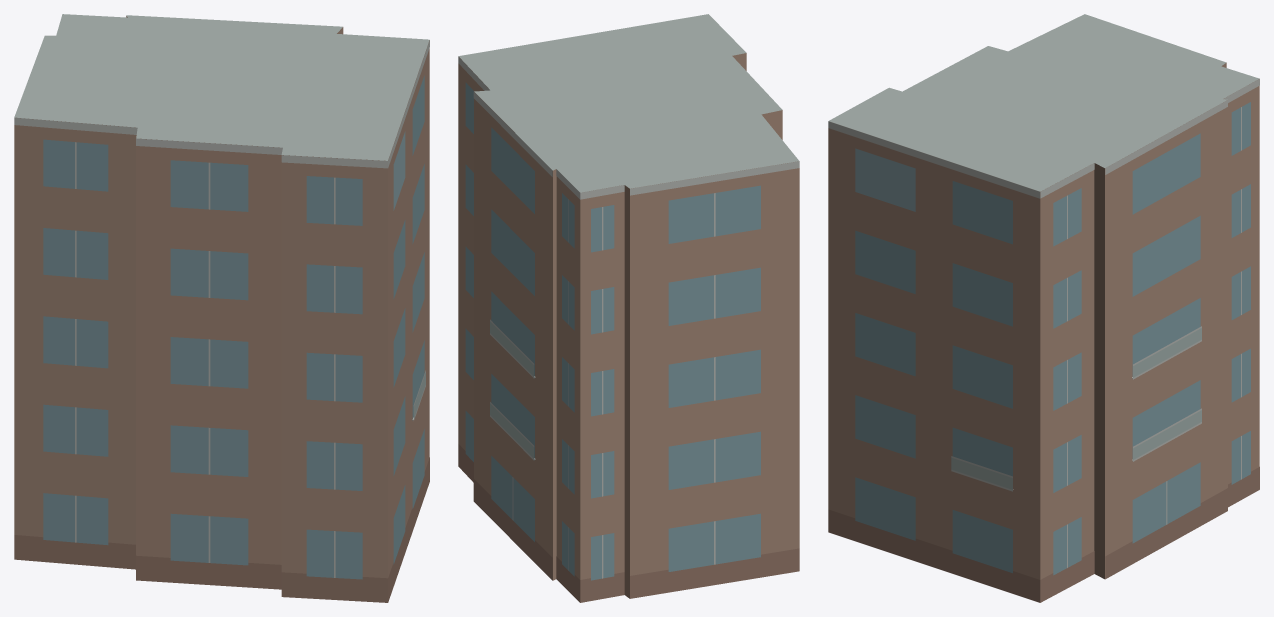
The model's file is survey-upis-32689103.glb.
3 views of the same model, side by side, from view 1: azimuth 30°, elevation 25°; view 2: azimuth 150°, elevation 25°; view 3: azimuth 270°, elevation 25° (orthographic). The views are drawn at different scales.
Parts seen in each view (by area): view 1: survey-upis-32689103.tmp; view 2: survey-upis-32689103.tmp; view 3: survey-upis-32689103.tmp.
Part boxes in pixels (box(x1,y1,x2,y2)): survey-upis-32689103.tmp: box(14, 14, 429, 602); survey-upis-32689103.tmp: box(458, 14, 799, 602); survey-upis-32689103.tmp: box(828, 14, 1259, 602).
Bounding box in the file's own units: 13.36 × 14.4 × 13.7.
